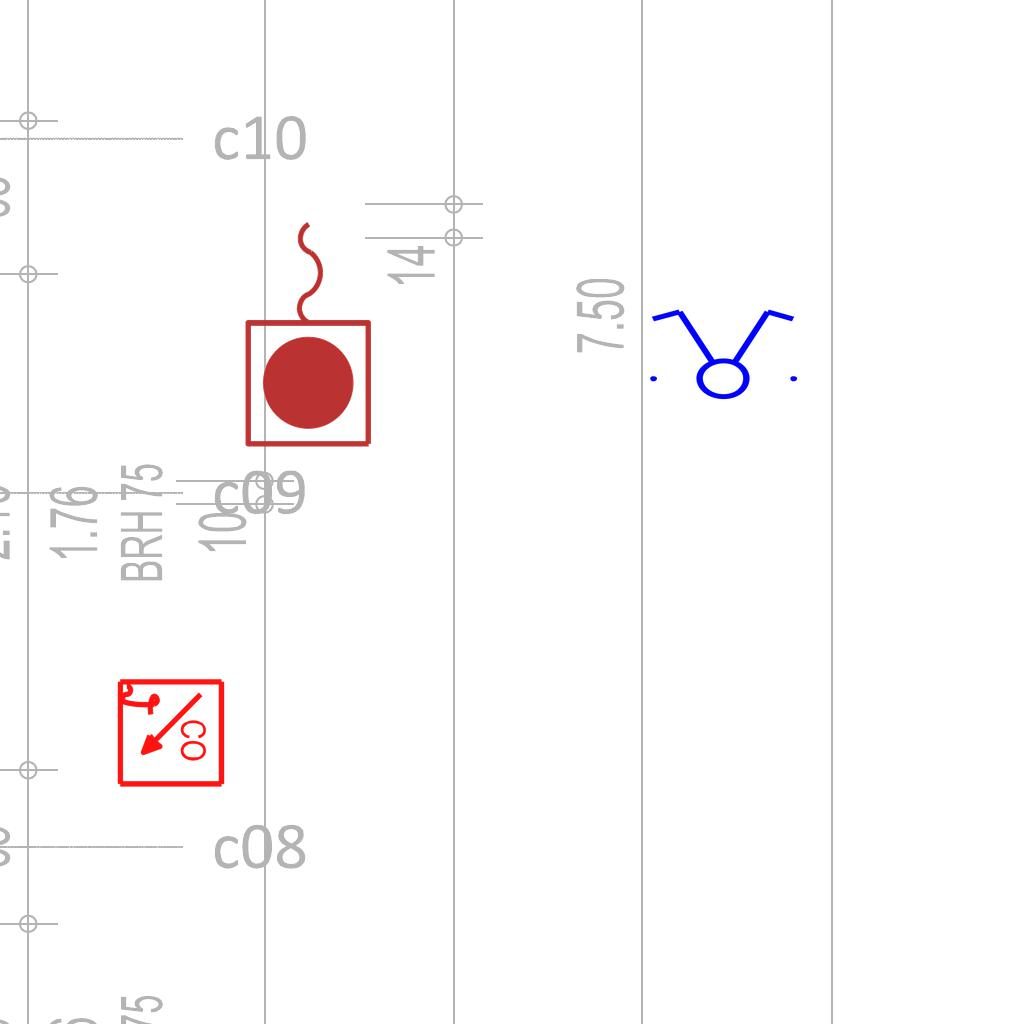ROA_Rauchmelder_optisch_mit_Signalgeber_(Sockelsirene): (113, 677, 226, 790)
Serienschalter: (638, 305, 806, 401)
Zugtaster: (238, 211, 382, 455)
